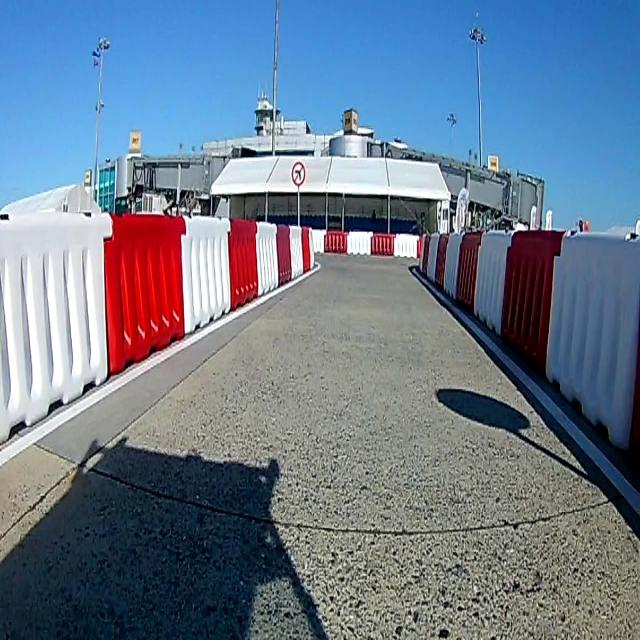soladonulmez: (292, 162, 306, 185)
